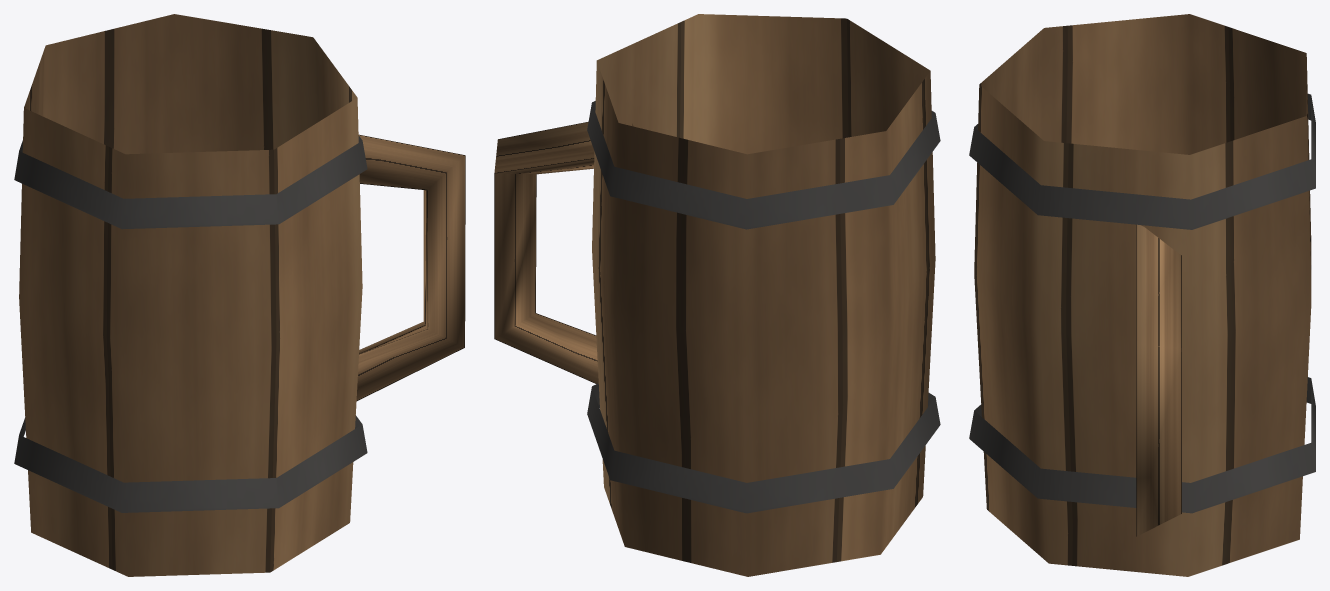
Rendered from Mug_LOD1.gltf.
3 renders of one model, left to right at view 1: azimuth 30°, elevation 25°; view 2: azimuth 150°, elevation 25°; view 3: azimuth 270°, elevation 25°, orthographic.
Visible parts, largest first — view 1: Mug_LOD1; view 2: Mug_LOD1; view 3: Mug_LOD1.
Boxes of the visible parts, x1,y1,x2,y2 form: Mug_LOD1: (14,14,465,576); Mug_LOD1: (494,14,940,576); Mug_LOD1: (969,14,1315,576).
Size of the model in its own units: 0.1874 by 0.18 by 0.1331.
Materials: 2 (2 with a texture image).
